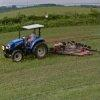Tractor: (5, 19, 49, 62)
